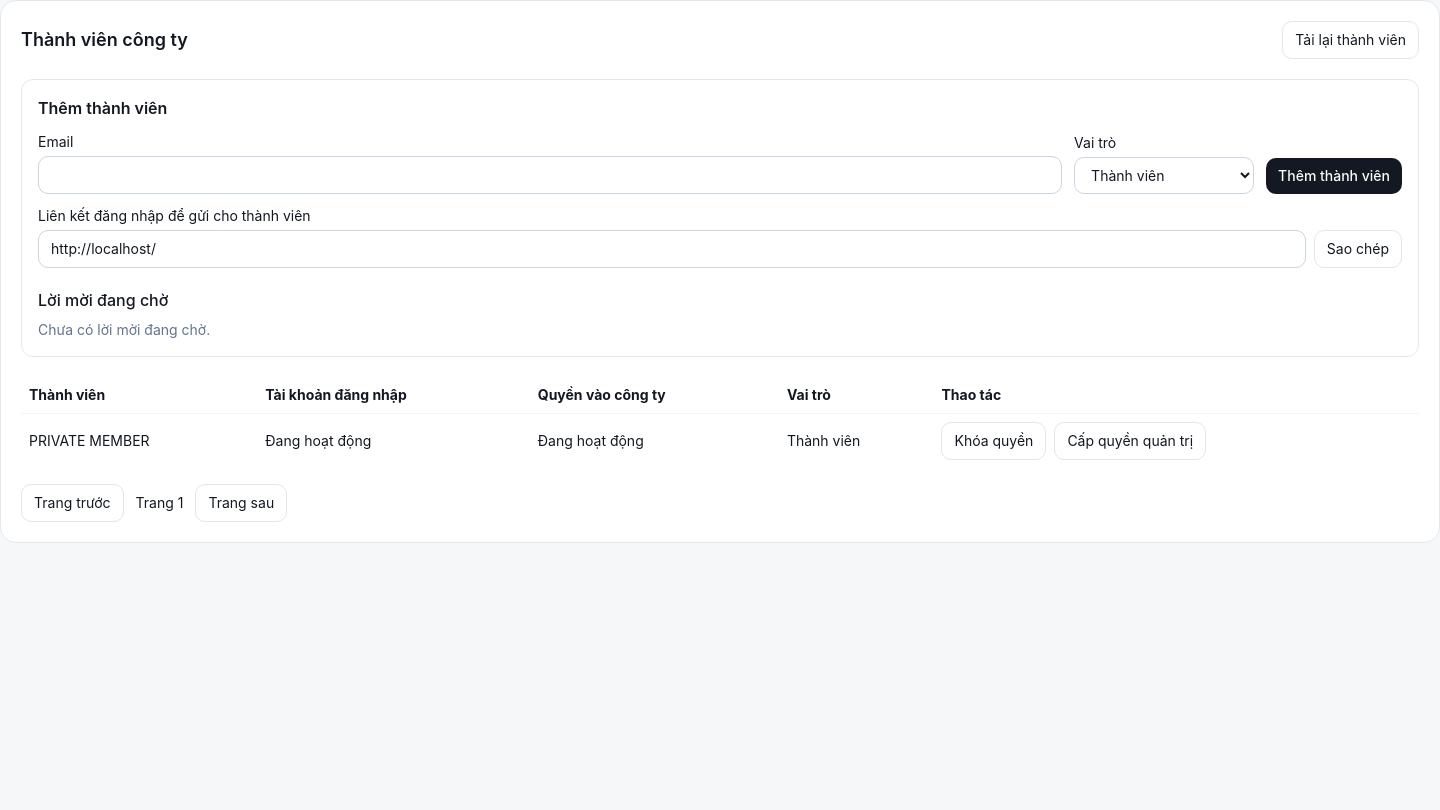
Test case: suspends and reactivates through versioned operations then reloads the authoritative status
The width and height of the screenshot is (1440, 810).
Expected: the text "PRIVATE MEMBER" is shown, [21,414,257,468]
Click the button with aria-label "Khóa quyền PRIVATE MEMBER" at (994, 441), box [942,422,1046,460]
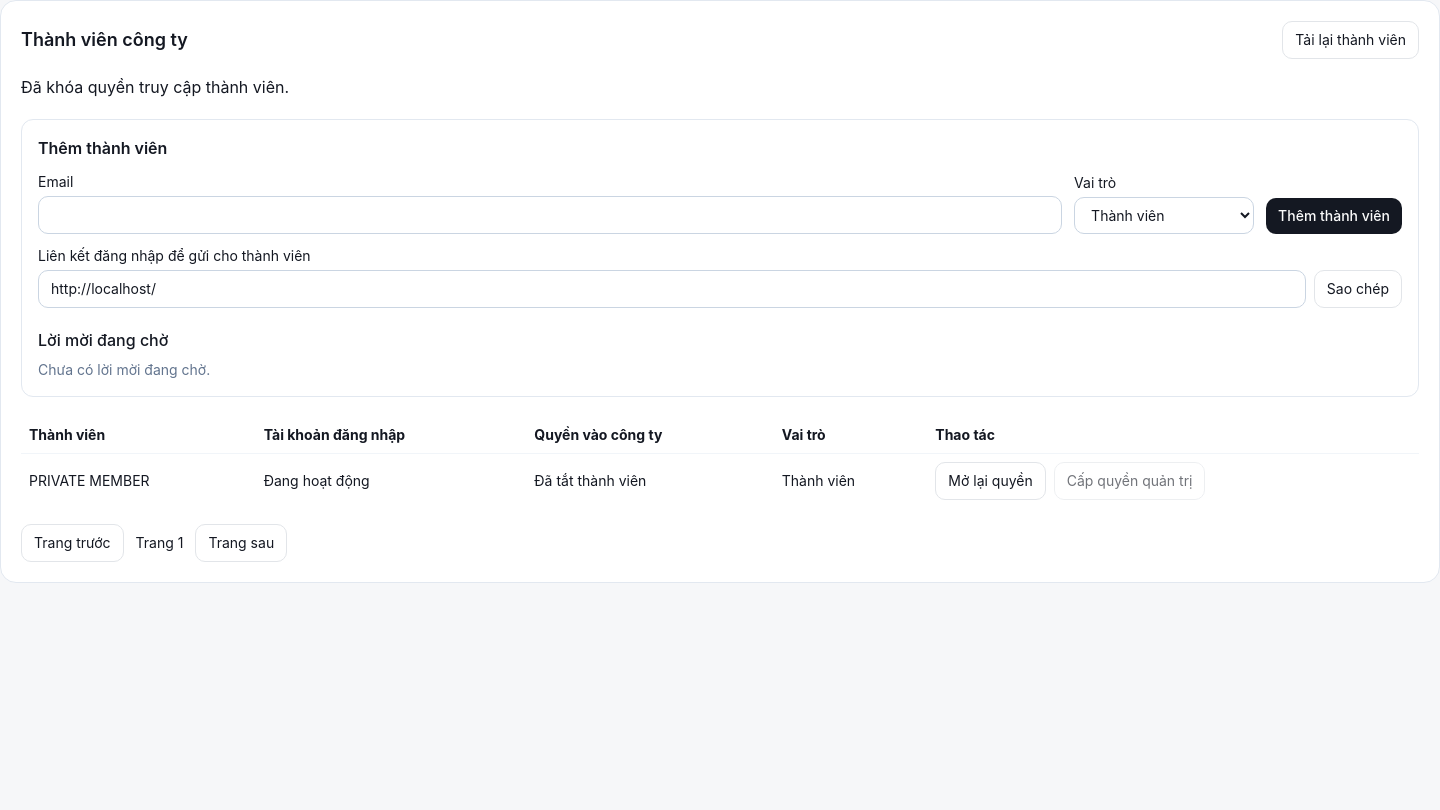
Expected: the text "Đã khóa quyền truy cập thành viên." is shown, [21,77,289,97]
Expected: the text "Đã tắt thành viên" is shown, [526,454,774,508]
Click the button with aria-label "Mở lại quyền PRIVATE MEMBER" at (990, 481), box [935,462,1046,500]
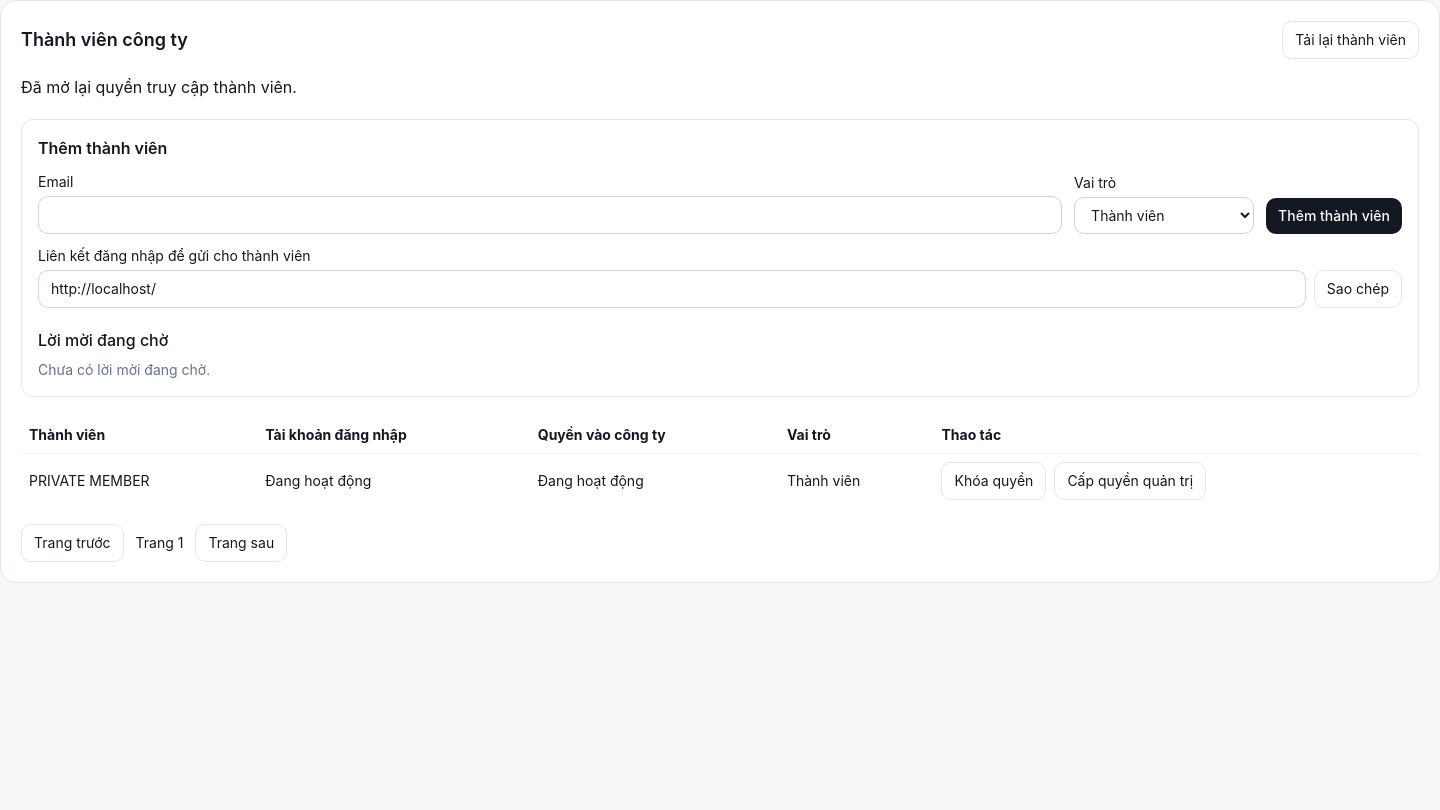
Expected: the text "Đã mở lại quyền truy cập thành viên." is shown, [21,77,297,97]
